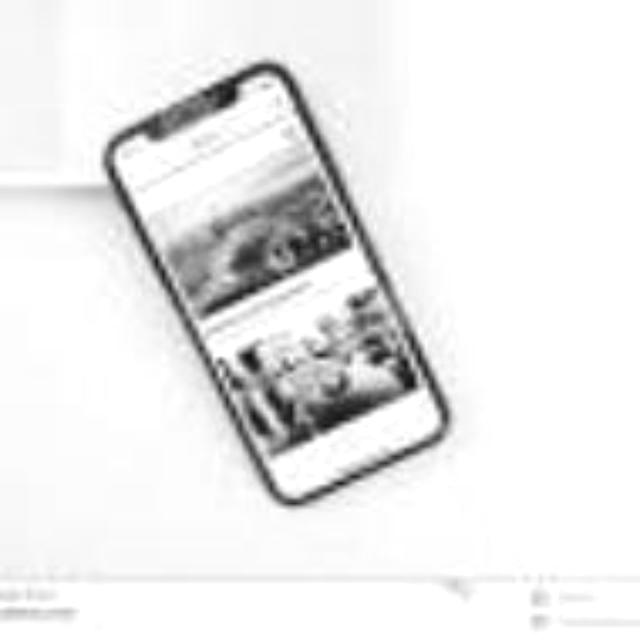fake: (92, 54, 475, 510)
